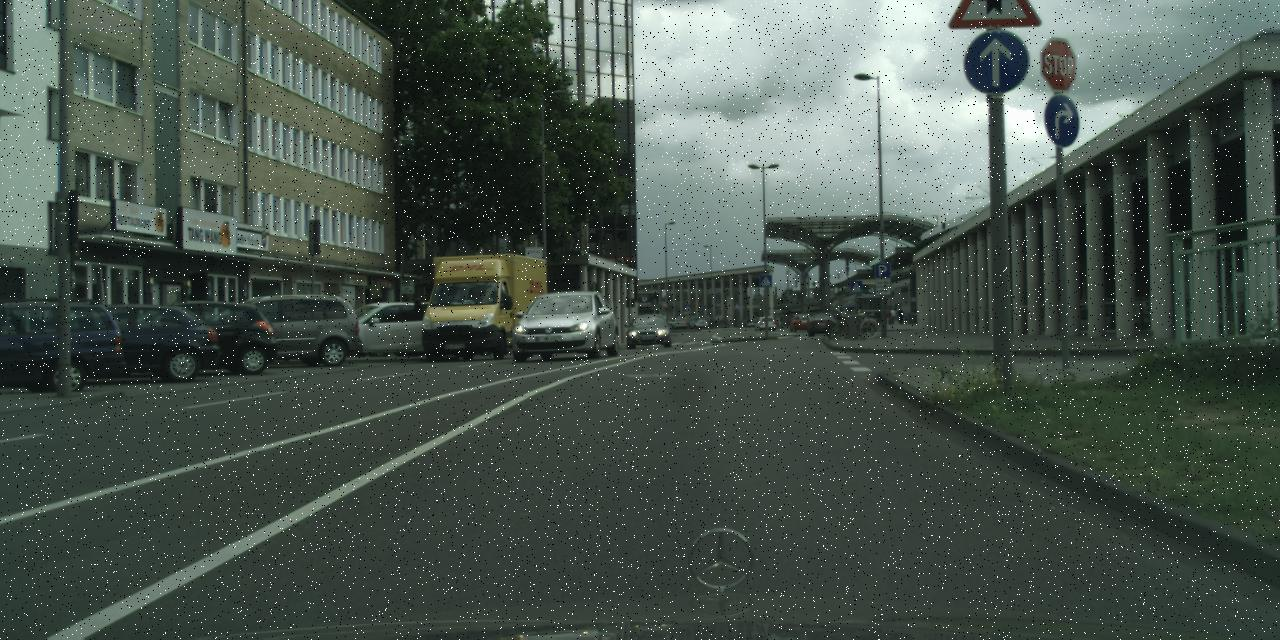ped: (890, 302, 904, 326)
